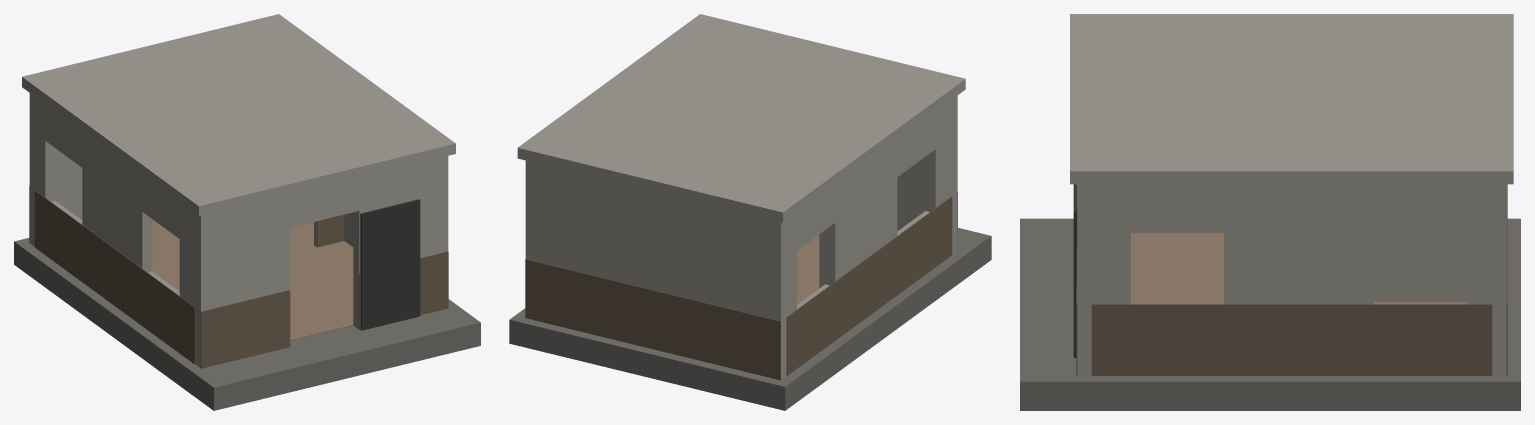
File: casa_gerador_a.glb
The picture shows the model from 3 angles, left to right: view 1: azimuth 30°, elevation 25°; view 2: azimuth 150°, elevation 25°; view 3: azimuth 270°, elevation 25°; orthographic projection. The views are drawn at different scales.
Visible parts, largest first — view 1: casa_gerador_a; view 2: casa_gerador_a; view 3: casa_gerador_a.
Part boxes in pixels (left/top/right/bottom): casa_gerador_a: left=14, top=14, right=480, bottom=410; casa_gerador_a: left=509, top=14, right=991, bottom=410; casa_gerador_a: left=1020, top=14, right=1520, bottom=410.
Size of the model in its own units: 5.4 by 3.65 by 7.
